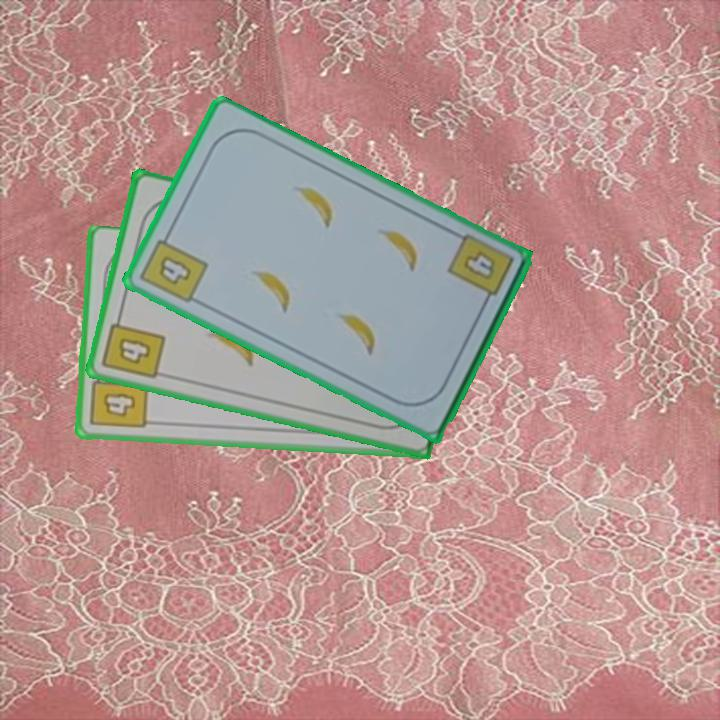4b: (136, 227, 211, 307), (444, 234, 517, 310), (99, 309, 168, 383), (87, 367, 151, 432)
